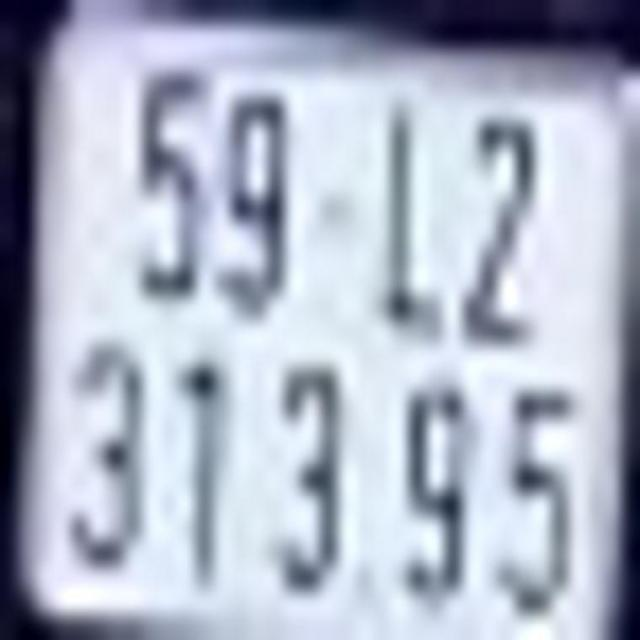1: (168, 358, 218, 588)
2: (468, 123, 542, 344)
3: (68, 339, 144, 567), (272, 362, 343, 592)
5: (501, 387, 571, 616), (140, 75, 204, 304)
9: (400, 385, 468, 601), (222, 97, 286, 313)
L: (387, 108, 447, 340)
